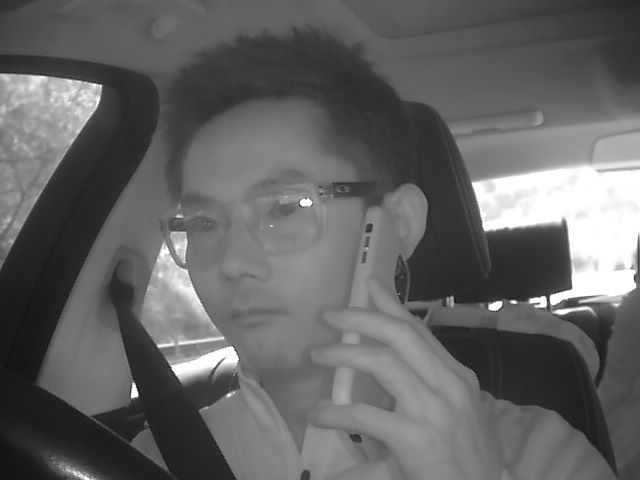hand: (303, 277, 479, 474)
